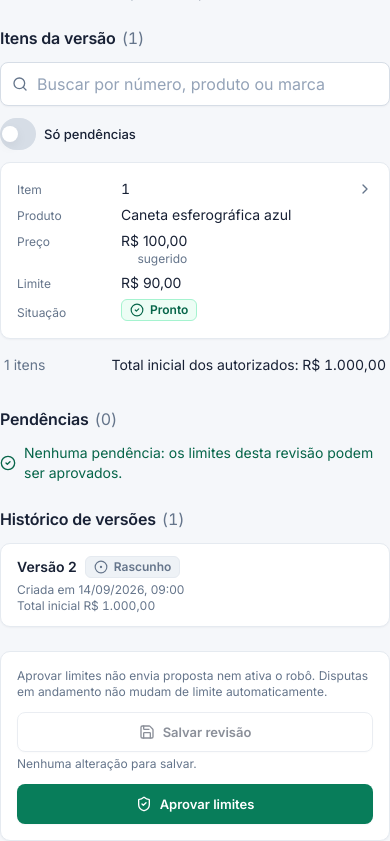
Test: AprovacaoDePrecificacao › a mensagem de recusa do servidor aparece como veio
The width and height of the screenshot is (390, 841).
(page scrolled)
What coordinates should you click on to do the following:
click the button "Aprovar limites"
I would click on:
 (195, 804)
Its box is x1=17 y1=784 x2=373 y2=824.
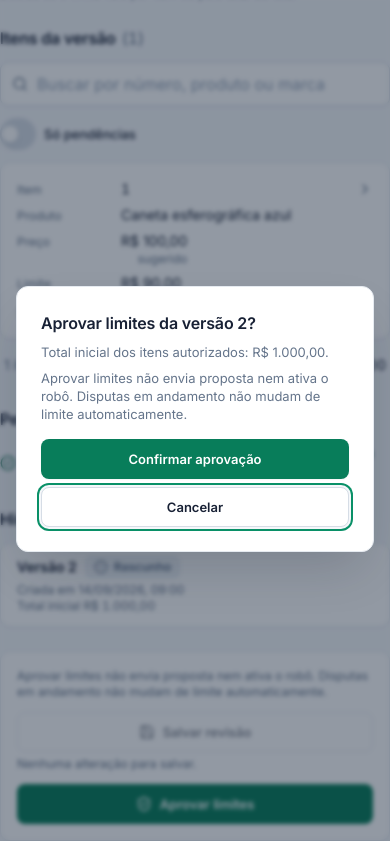
What coordinates should you click on to do the following:
click the button "Confirmar aprovação"
I would click on:
 (195, 459)
Its box is x1=41 y1=439 x2=349 y2=479.
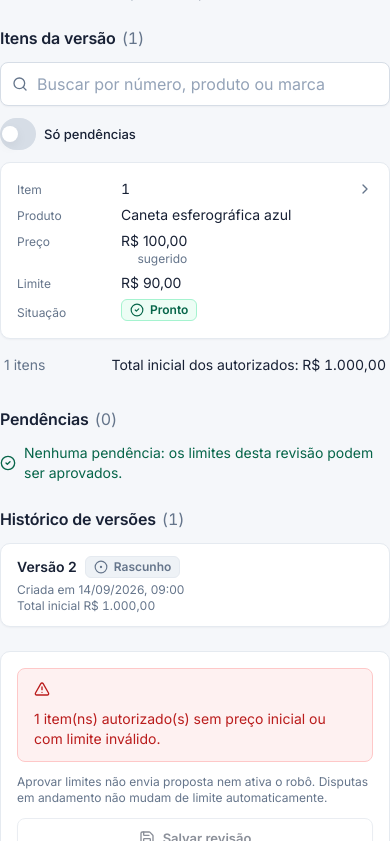
Result: the text "1 item(ns) autorizado(s) sem preço inicial ou com limite inválido." is shown at x1=34 y1=709 x2=356 y2=749
